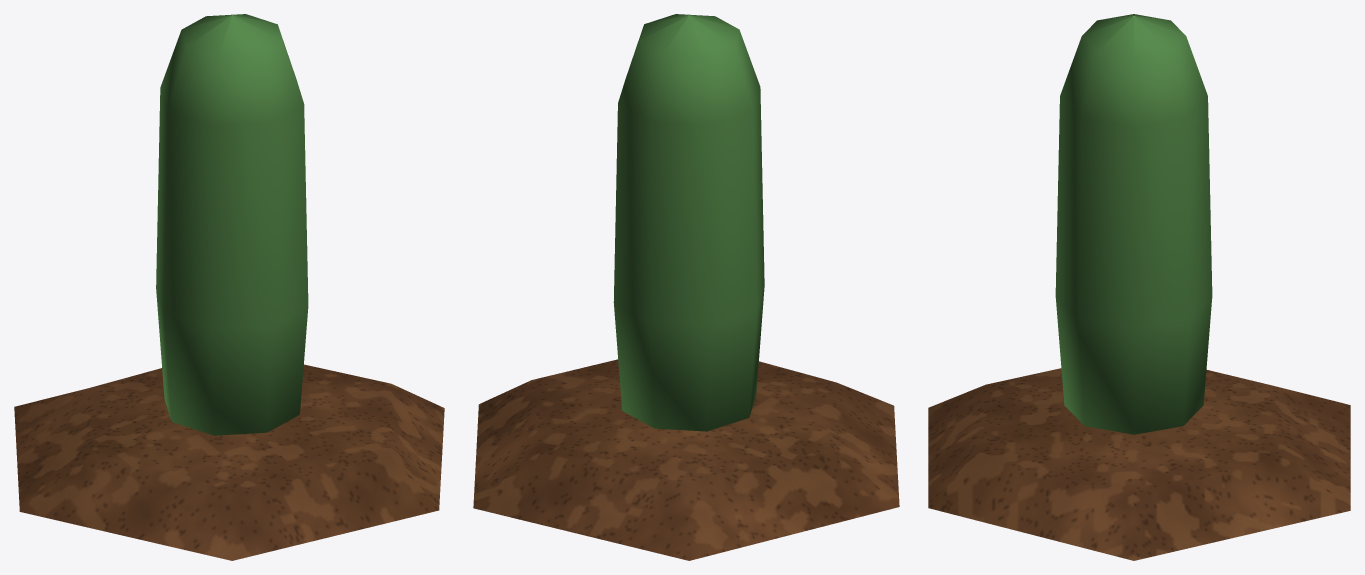
File: plant-dragon-1-far.glb
3 views of the same model, side by side, from view 1: azimuth 30°, elevation 25°; view 2: azimuth 150°, elevation 25°; view 3: azimuth 270°, elevation 25° (orthographic).
Visible parts, largest first — view 1: plant-dragon-1-far; view 2: plant-dragon-1-far; view 3: plant-dragon-1-far.
Boxes of the visible parts, <box> form: plant-dragon-1-far: <box>14,14,444,560</box>; plant-dragon-1-far: <box>473,14,899,560</box>; plant-dragon-1-far: <box>928,14,1350,560</box>.
Bounding box in the file's own units: 0.84 × 0.84 × 0.7275.
2 materials, 1 textured.
